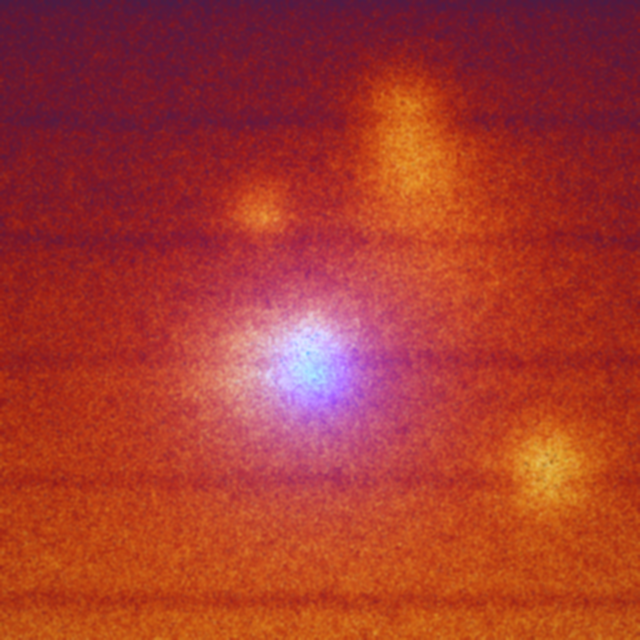nozzle: (261, 330, 353, 418)
